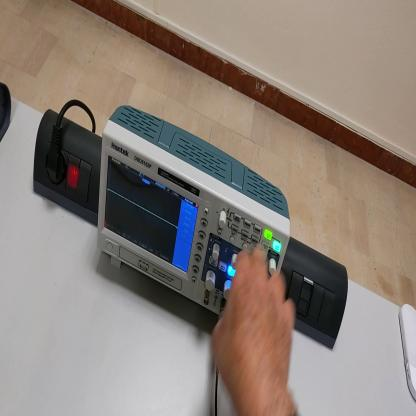hand: (215, 243, 297, 402)
oscilloscope: (97, 105, 292, 316)
socket: (32, 105, 102, 226), (2, 81, 12, 143)
